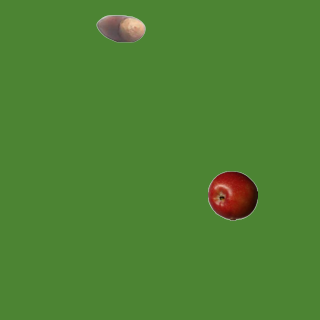Apple Braeburn: (207, 170, 257, 220)
Hazelnut: (95, 3, 145, 53)
